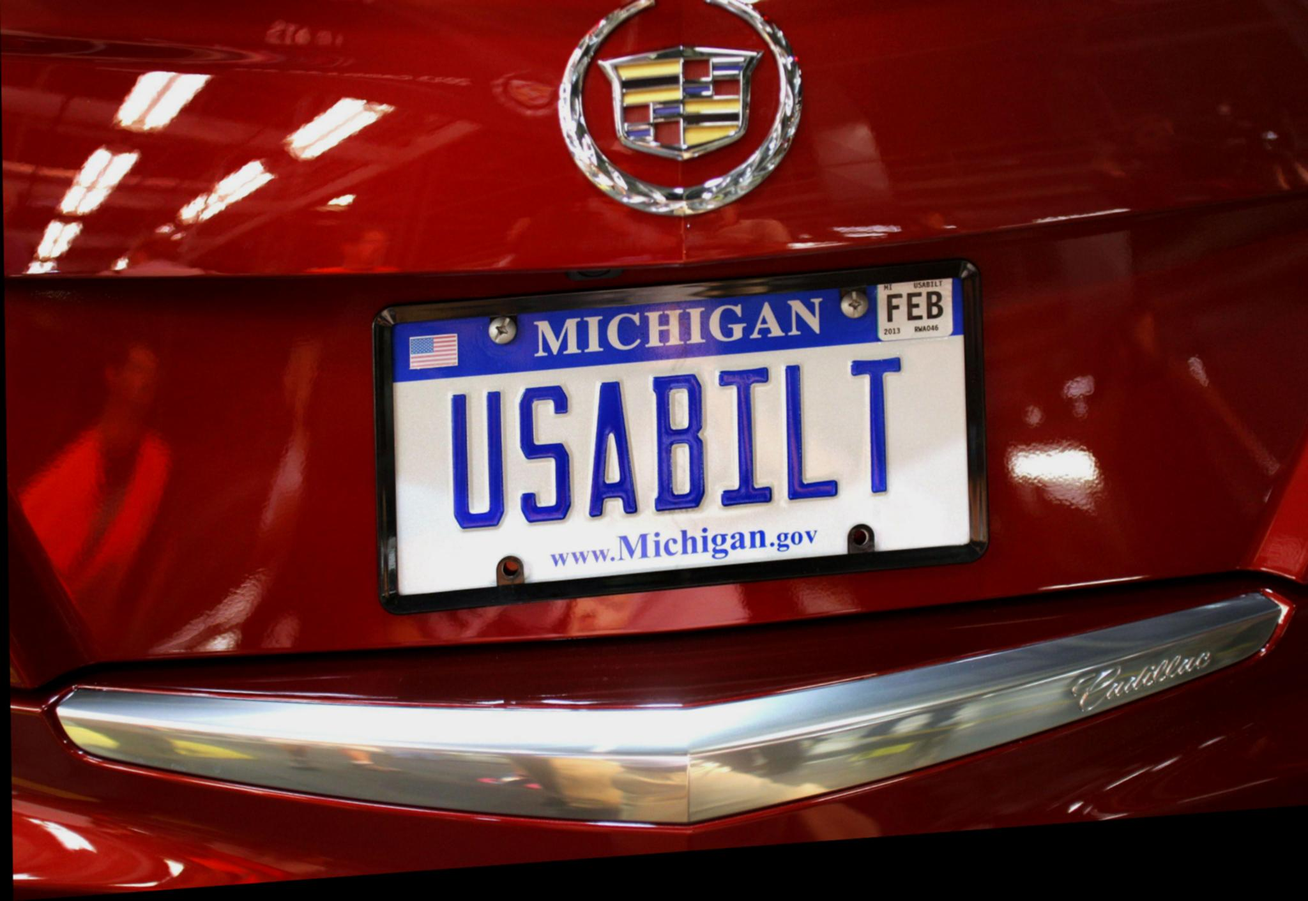License_Plate: (381, 267, 997, 593)
